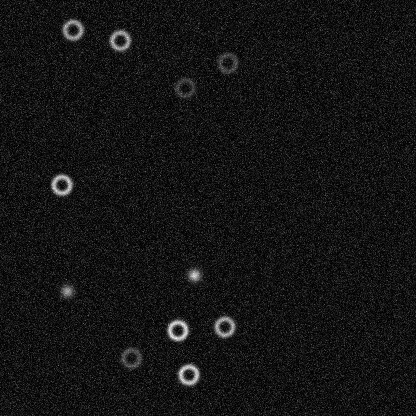Ring: (172, 75, 196, 99), (212, 314, 236, 338), (119, 345, 143, 369), (176, 362, 200, 386), (165, 318, 189, 342), (215, 50, 239, 74), (60, 17, 84, 41), (49, 172, 73, 196), (107, 28, 131, 52)
Spot: (186, 267, 202, 283), (58, 283, 74, 299)
